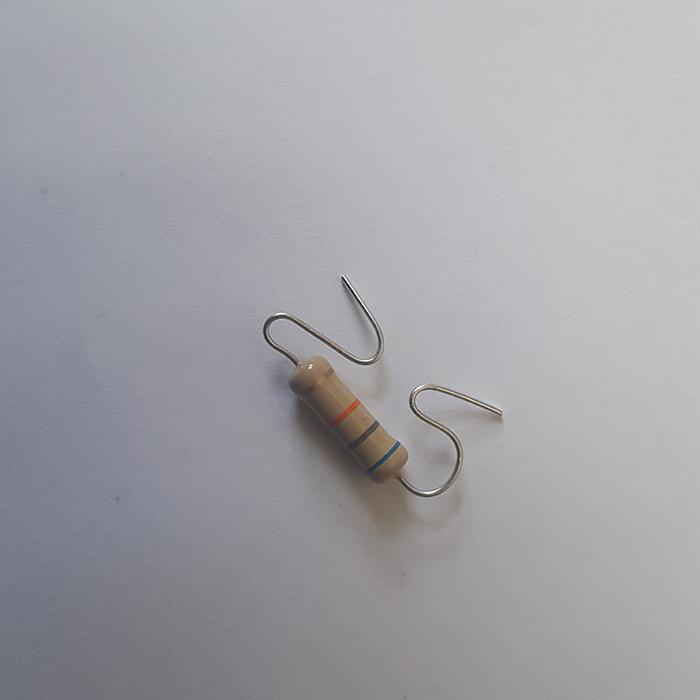resistor: (287, 355, 407, 483)
